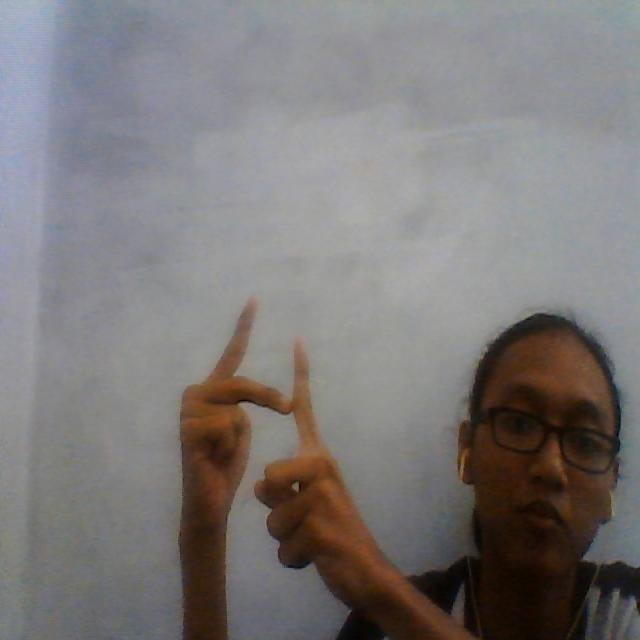H: (169, 284, 354, 551)
